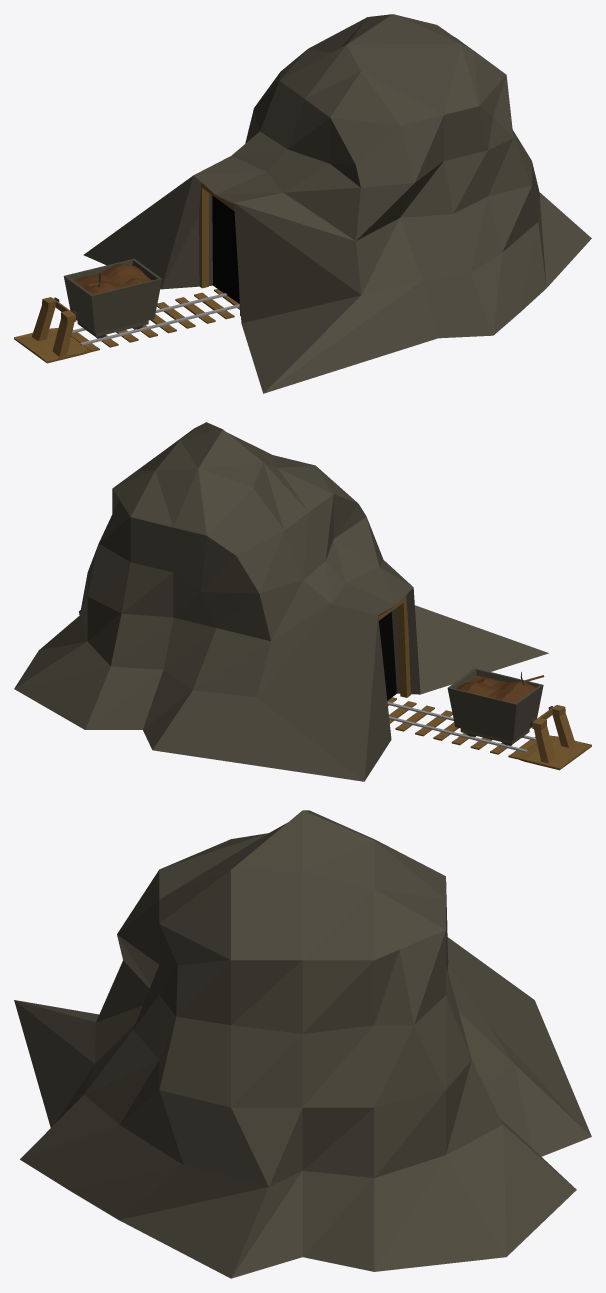
File: IronMine.fbx
3 views of the same model, one above another, from view 1: azimuth 30°, elevation 25°; view 2: azimuth 150°, elevation 25°; view 3: azimuth 270°, elevation 25° (orthographic). The views are drawn at different scales.
Parts seen in each view (by area): view 1: Mountain, Minecart, Cube, Ironore, Holstützen, Schiene.L; view 2: Mountain, Minecart, Cube, Ironore, Holstützen, Schiene.L; view 3: Mountain.
Part boxes in pixels (x1,y1,x2,y2): Mountain: [83, 14, 591, 393]; Minecart: [63, 258, 162, 336]; Cube: [14, 297, 91, 363]; Ironore: [73, 264, 151, 294]; Holstützen: [199, 183, 240, 316]; Schiene.L: [72, 293, 239, 345]; Mountain: [14, 422, 548, 781]; Minecart: [447, 668, 543, 744]; Cube: [517, 705, 591, 770]; Ironore: [456, 675, 535, 703]; Holstützen: [378, 595, 410, 697]; Schiene.L: [387, 702, 536, 752]; Mountain: [14, 810, 591, 1278].
Size of the model in its own units: 608 by 270 by 403.
